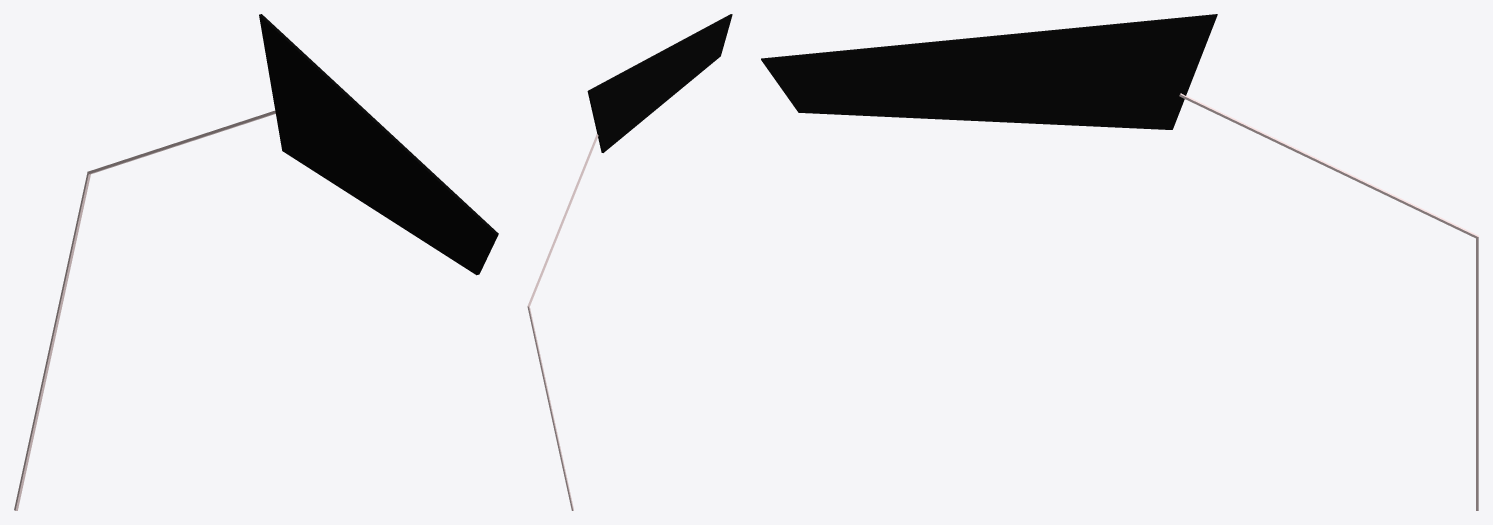
The model's file is promo.fbx.
3 views of the same model, side by side, from view 1: azimuth 30°, elevation 25°; view 2: azimuth 150°, elevation 25°; view 3: azimuth 270°, elevation 25° (orthographic). The views are drawn at different scales.
Parts seen in each view (by area): view 1: Plane, Cube, Cube.001; view 2: Plane, Cube, Cube.001; view 3: Plane, Cube.001, Cube.
Boxes of the visible parts, x1,y1,x2,y2 form: Plane: (259,14,498,275); Cube: (14,172,90,510); Cube.001: (87,110,275,174); Plane: (587,14,732,152); Cube: (527,306,573,510); Cube.001: (527,133,598,306); Plane: (761,14,1217,129); Cube.001: (1179,93,1478,238); Cube: (1476,238,1478,510).
Size of the model in its own units: 538 by 2557 by 3041.
